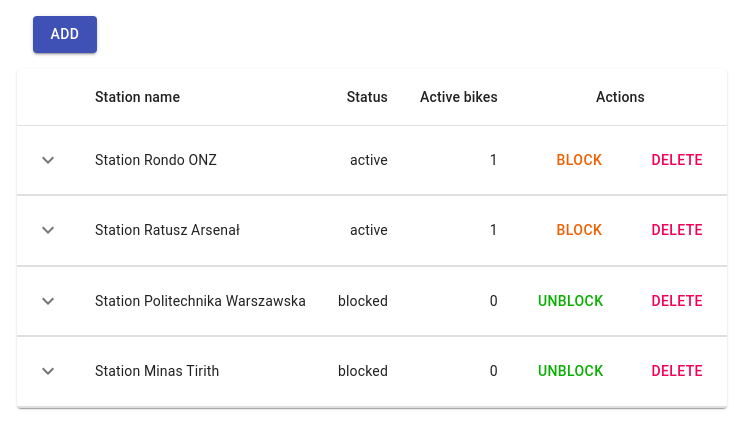
Scenario: Clicking block changes station status
Click the button "Block" in the row of "Rondo ONZ" at (579, 160), box top-left (547, 142), bottom-right (611, 178)
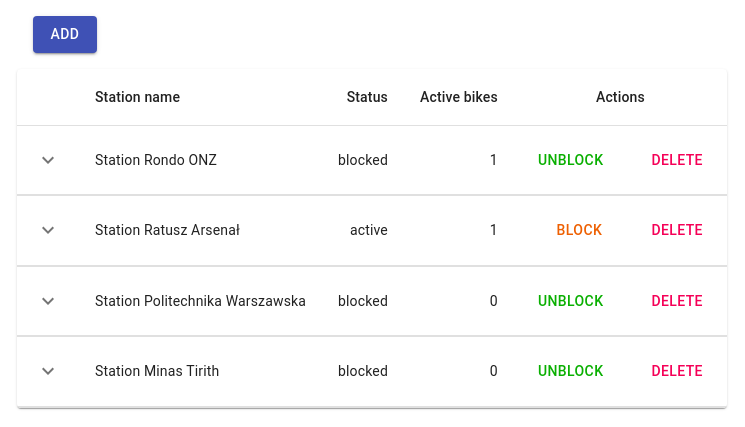
Result: the cell "blocked" next to "Rondo ONZ" is shown at top-left (338, 152), bottom-right (388, 168)
